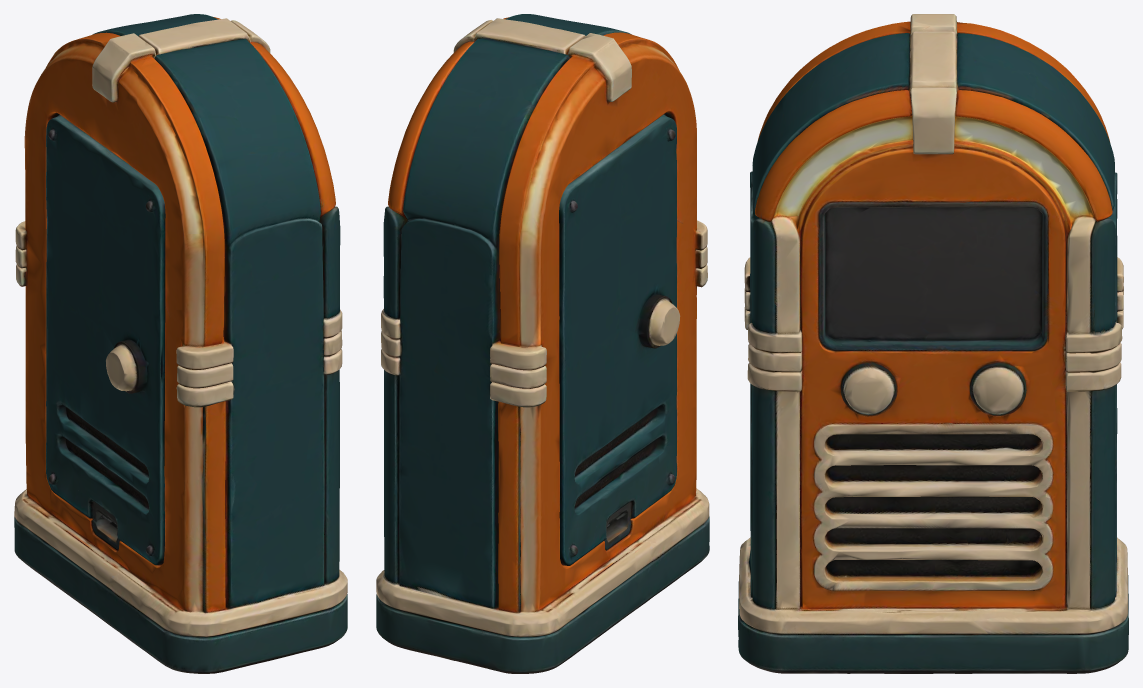
Rendered from jukebox.glb.
The picture shows the model from 3 angles, left to right: view 1: azimuth 30°, elevation 25°; view 2: azimuth 150°, elevation 25°; view 3: azimuth 270°, elevation 25°; orthographic projection. The views are drawn at different scales.
Visible parts, largest first — view 1: tripo_node_ff0a23b9-fdbf-46ca-8daa-7aab5619c699; view 2: tripo_node_ff0a23b9-fdbf-46ca-8daa-7aab5619c699; view 3: tripo_node_ff0a23b9-fdbf-46ca-8daa-7aab5619c699.
Boxes of the visible parts, x1=… form: tripo_node_ff0a23b9-fdbf-46ca-8daa-7aab5619c699: x1=14, y1=14, x2=347, y2=673; tripo_node_ff0a23b9-fdbf-46ca-8daa-7aab5619c699: x1=376, y1=14, x2=709, y2=673; tripo_node_ff0a23b9-fdbf-46ca-8daa-7aab5619c699: x1=738, y1=14, x2=1128, y2=673.
Size of the model in its own units: 0.3487 by 1 by 0.6046.
1 material, 1 textured.
